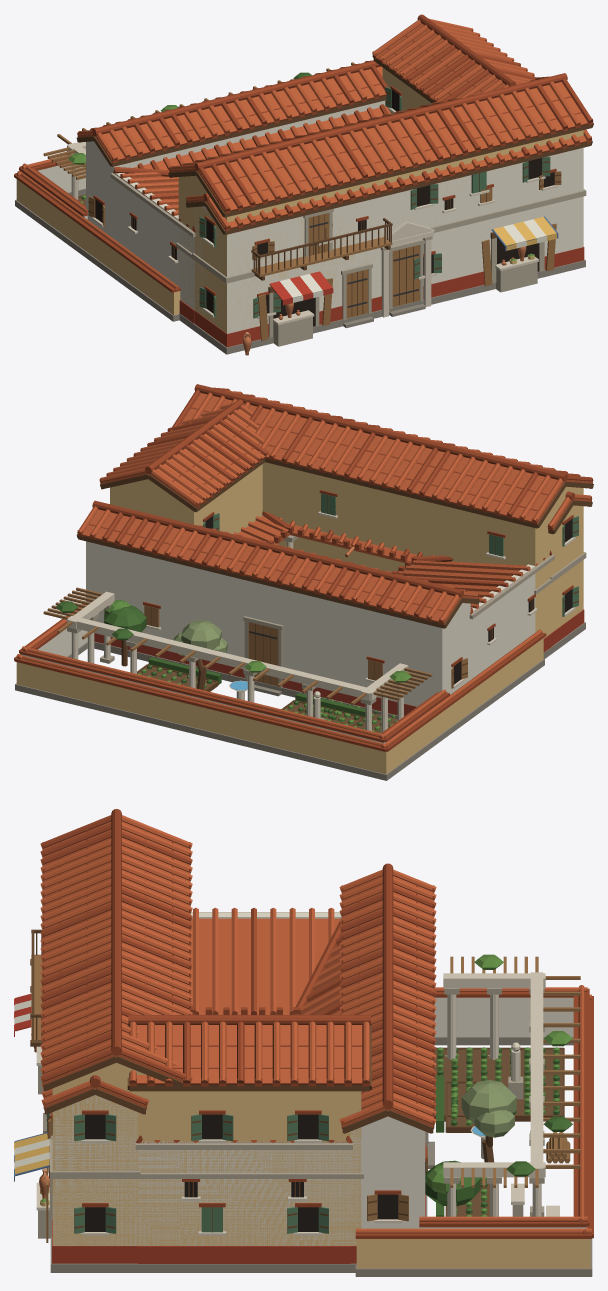
File: Domus.fbx
3 renders of one model, top to bottom at view 1: azimuth 30°, elevation 25°; view 2: azimuth 150°, elevation 25°; view 3: azimuth 270°, elevation 25°, orthographic. The views are drawn at different scales.
Visible parts, largest first — view 1: Domus_1, Domus_0; view 2: Domus_0, Domus_1; view 3: Domus_0, Domus_1.
Boxes of the visible parts, x1=… form: Domus_1: x1=19, y1=60, x2=592, y2=355; Domus_0: x1=14, y1=14, x2=593, y2=354; Domus_0: x1=14, y1=384, x2=593, y2=780; Domus_1: x1=19, y1=491, x2=592, y2=743; Domus_0: x1=14, y1=809, x2=593, y2=1276; Domus_1: x1=14, y1=863, x2=589, y2=1272.
Bounding box in the file's own units: 5.35 × 2.39 × 5.45.
